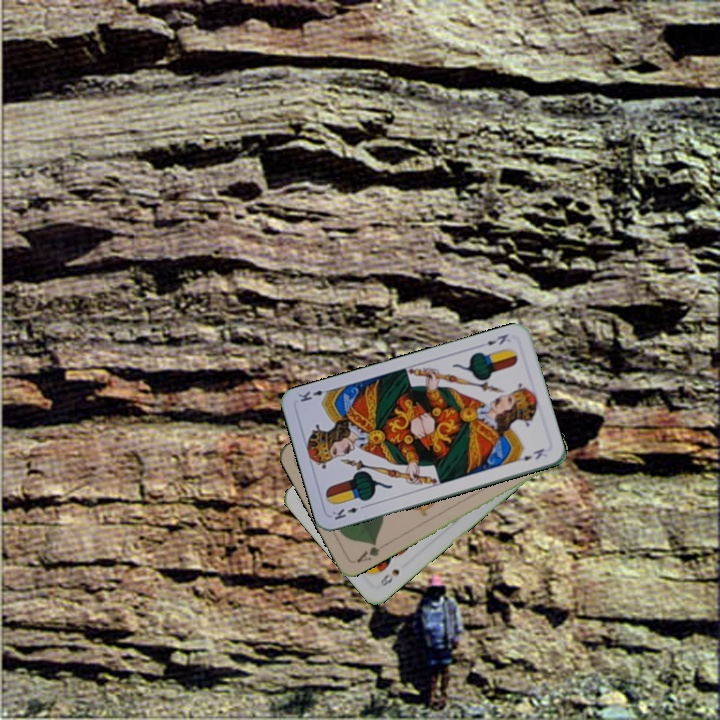EK: (328, 501, 369, 522), (475, 330, 511, 348)
GA: (352, 538, 388, 566)
S8: (376, 565, 402, 590)
